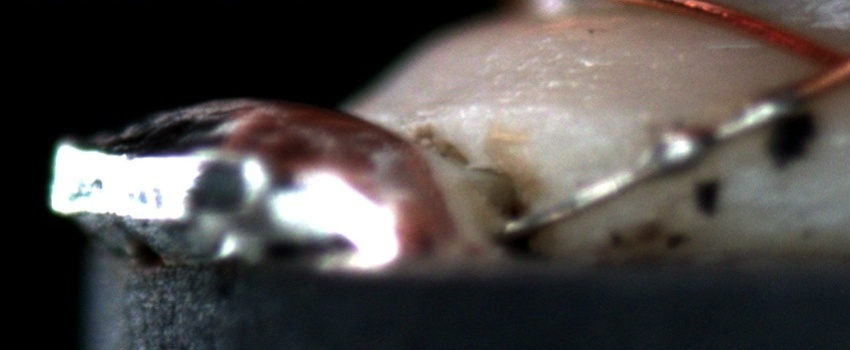DL: (505, 98, 785, 134)
TB: (648, 117, 718, 178), (735, 88, 793, 135)
TS: (502, 89, 802, 235)
TTCW: (499, 70, 837, 239)
